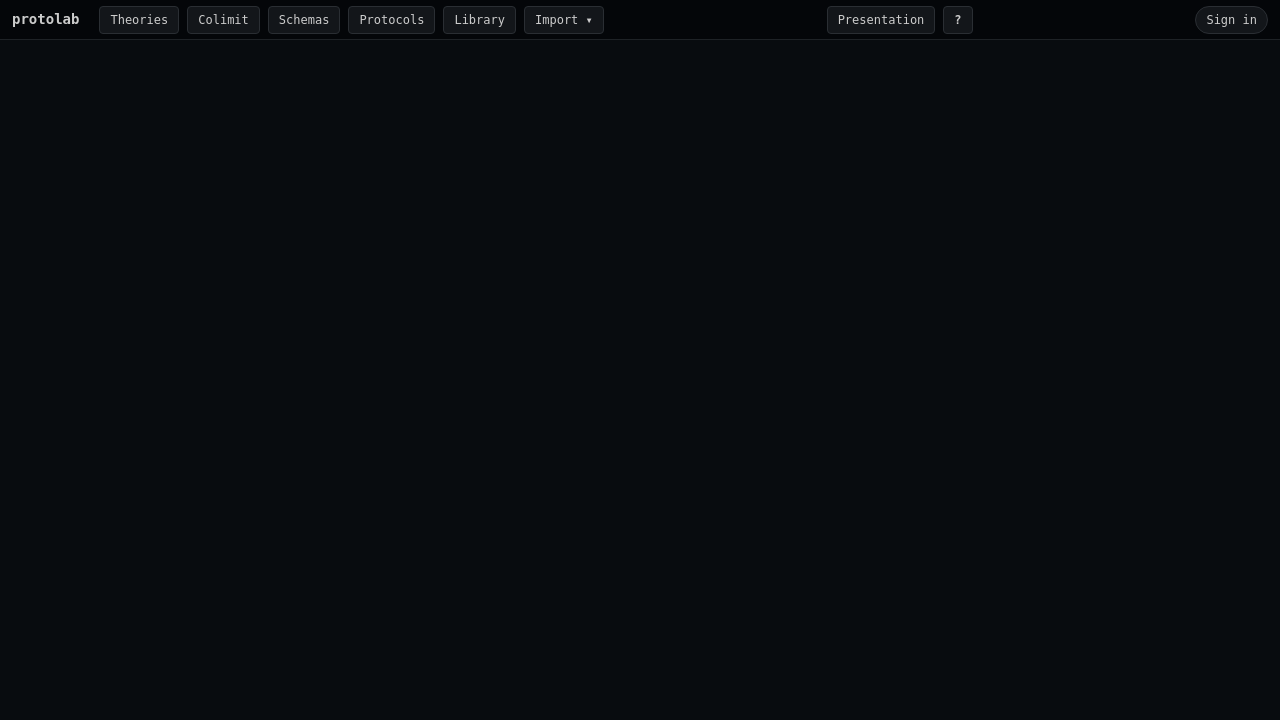
Toolbar › clicking Theories opens the TheoryEditor modal
Click the button "Theories" at x=139, y=20, box [99,6,179,34]
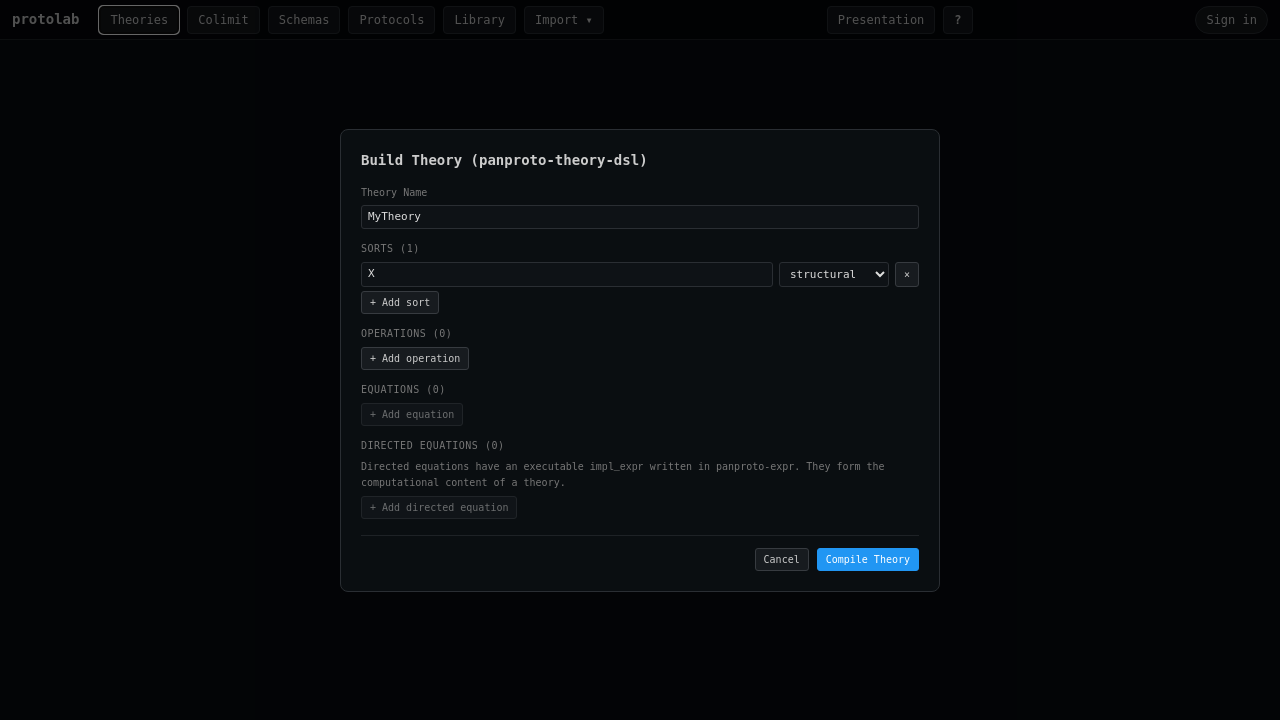
Check: the text "Build Theory (panproto-theory-dsl)" is shown, box [361,152,648,168]
